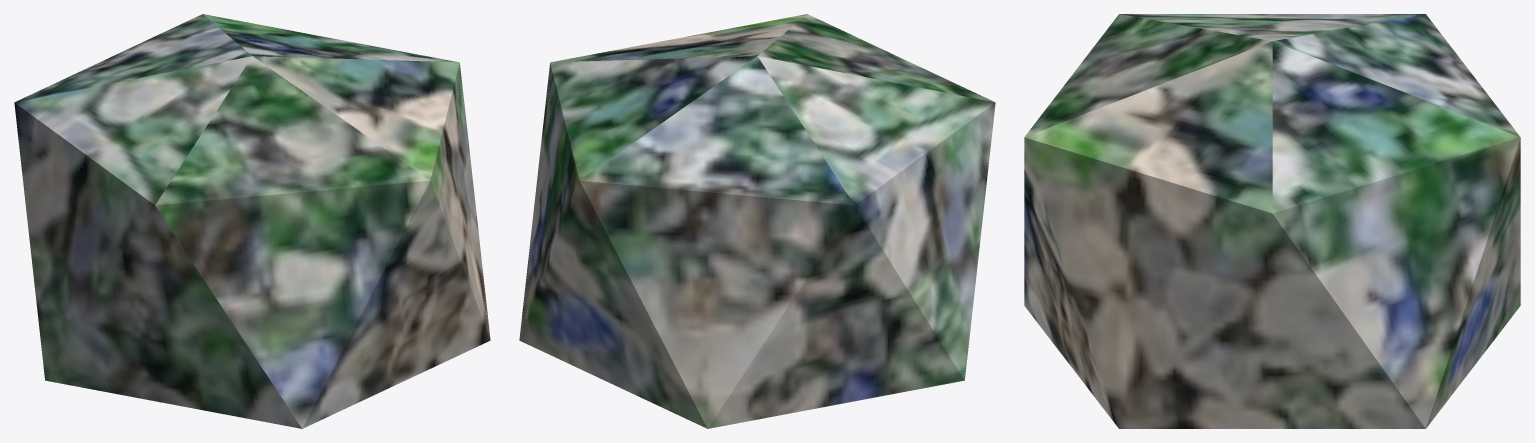
The model's file is VidroSucata.glb.
3 views of the same model, side by side, from view 1: azimuth 30°, elevation 25°; view 2: azimuth 150°, elevation 25°; view 3: azimuth 270°, elevation 25° (orthographic). The views are drawn at different scales.
Parts seen in each view (by area): view 1: Icosphere; view 2: Icosphere; view 3: Icosphere.
Part boxes in pixels (x1=…): Icosphere: x1=14, y1=14, x2=490, y2=428; Icosphere: x1=519, y1=14, x2=995, y2=428; Icosphere: x1=1024, y1=14, x2=1520, y2=428.
Bounding box in the file's own units: 1.72 × 1.31 × 1.63.
Materials: 1 (1 with a texture image).
